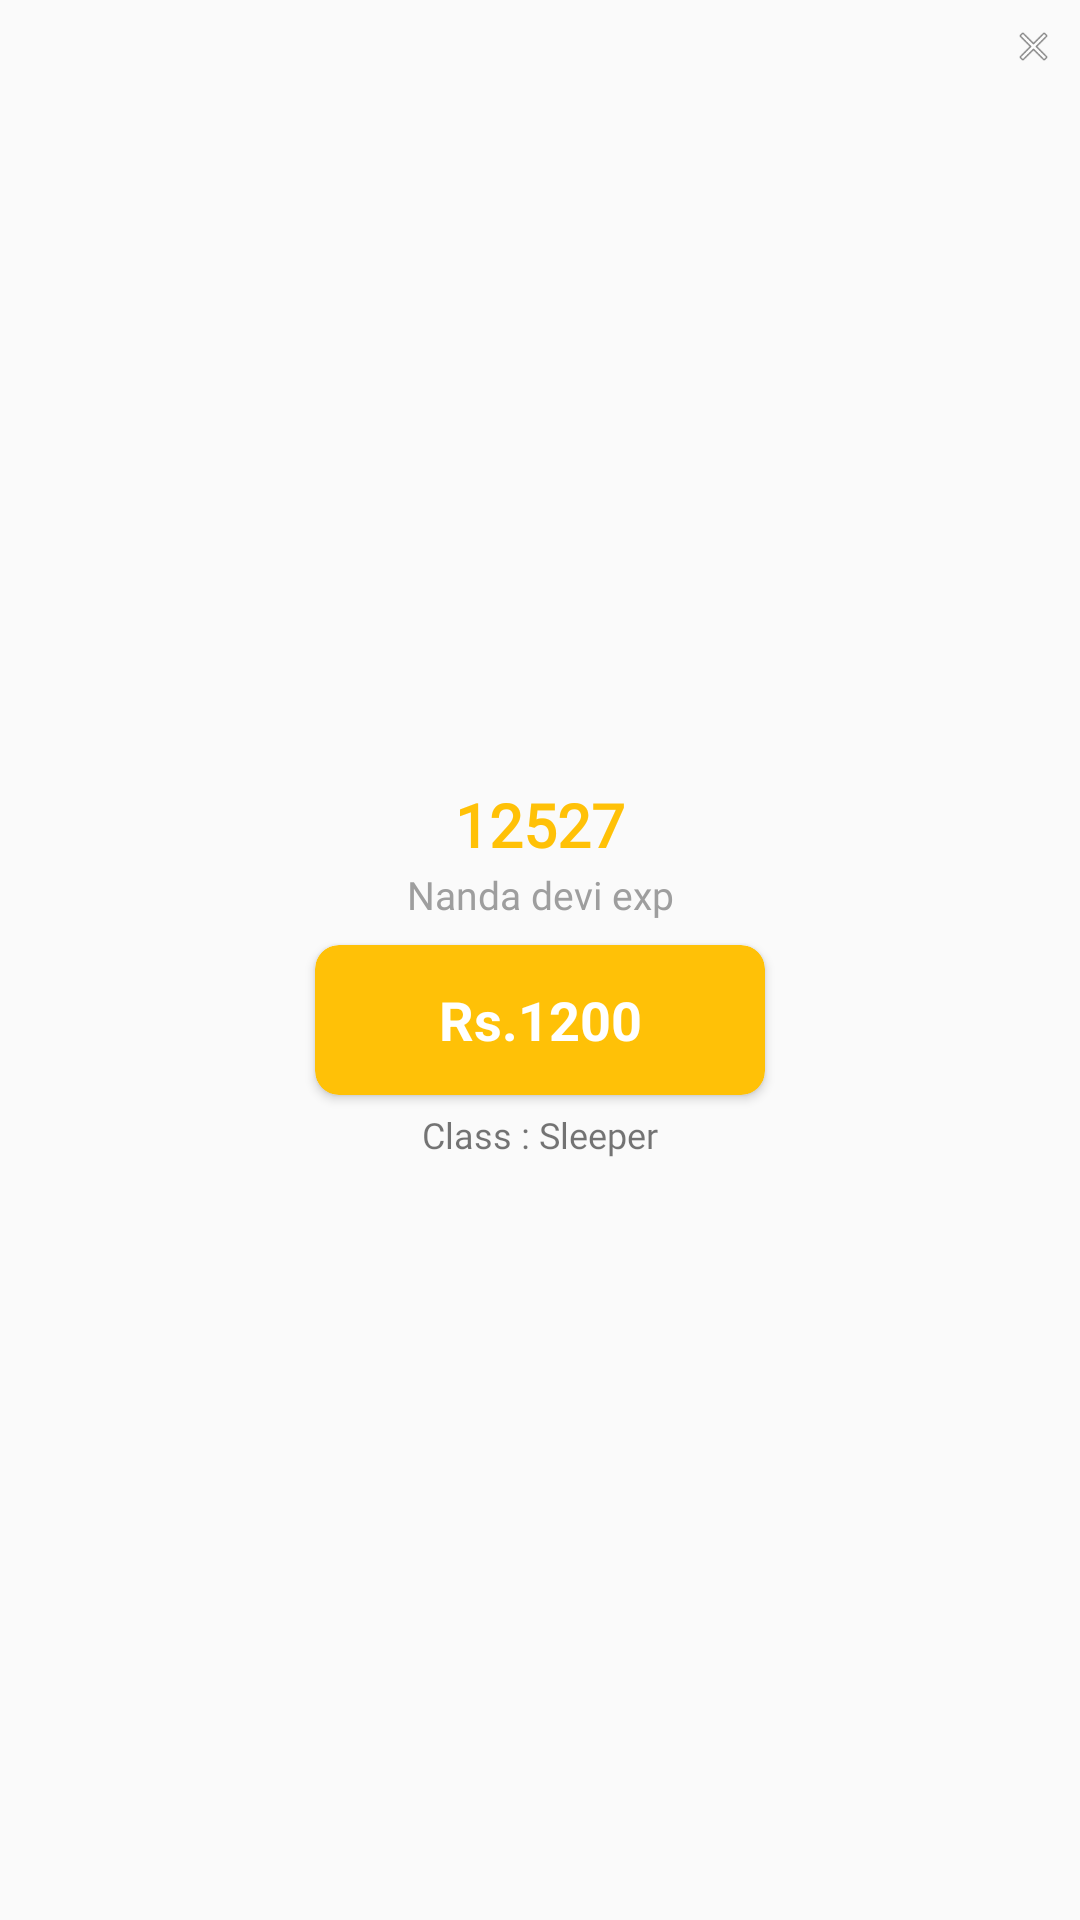

Icons on this 1080*1920 Android screen, each with the point to tap as (x,y):
close clear cancel: (1033,46)
